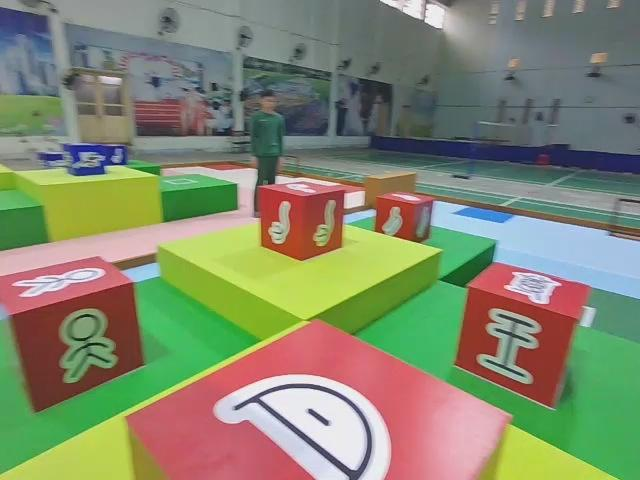R2 Fake: (452, 264, 591, 413)
R2 Real: (121, 317, 509, 480), (0, 251, 142, 415), (258, 176, 345, 265), (376, 187, 436, 246)
